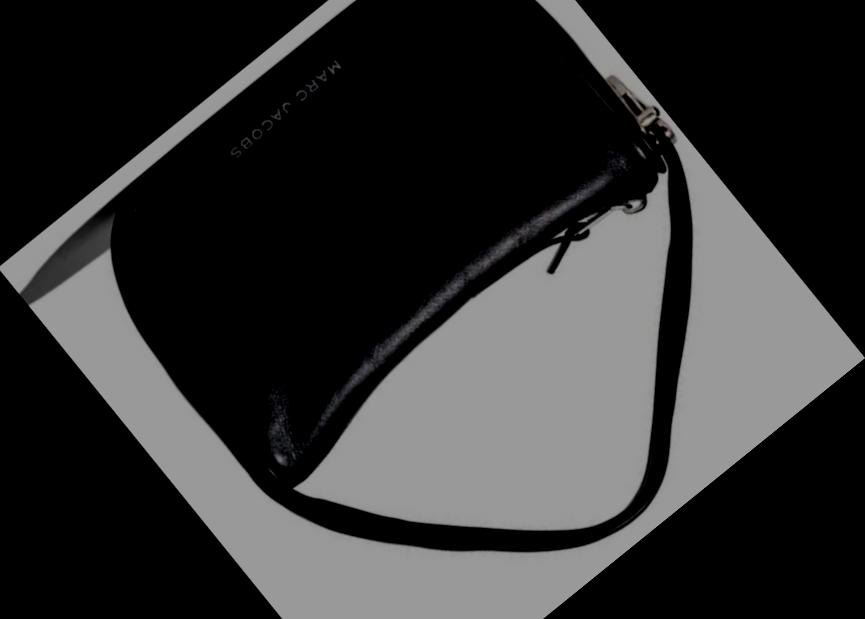MARC-JACOBS: (224, 58, 344, 159)
